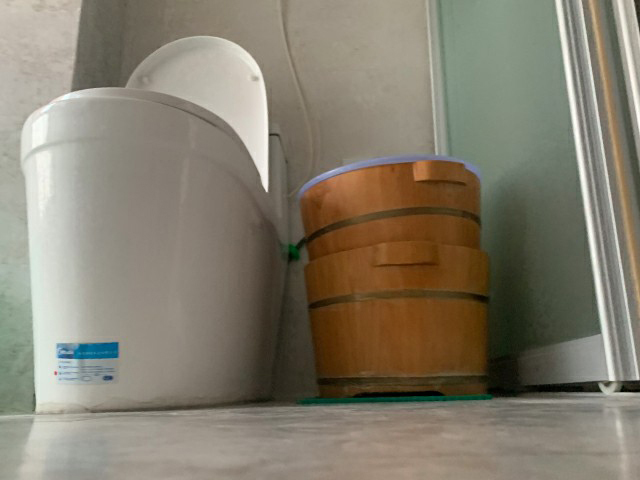closestool: (19, 35, 290, 416)
